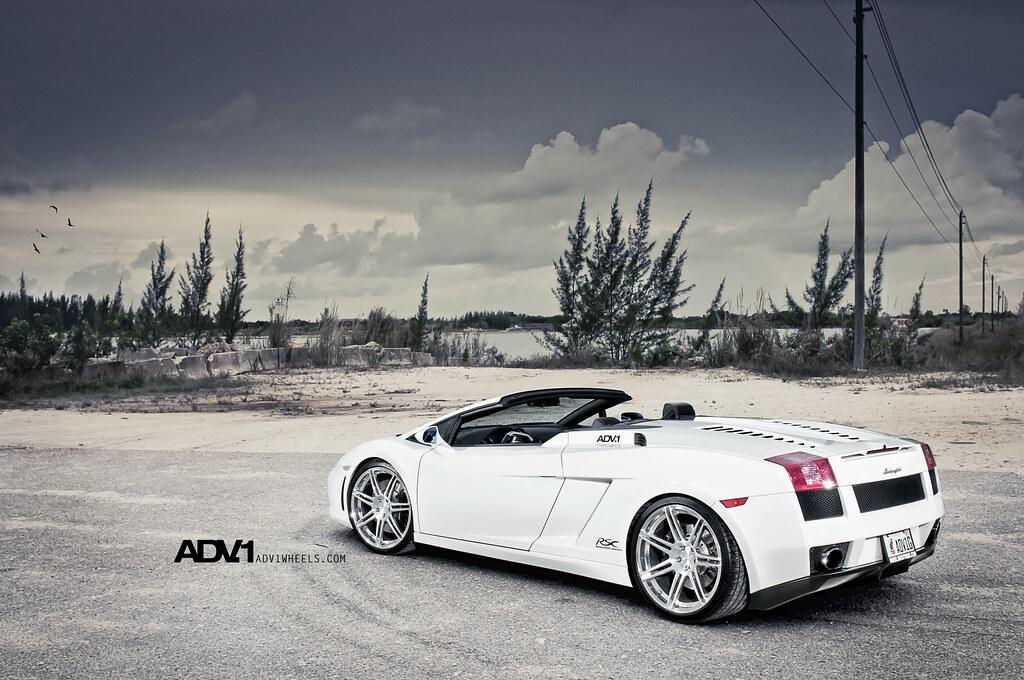car: (327, 387, 946, 625)
